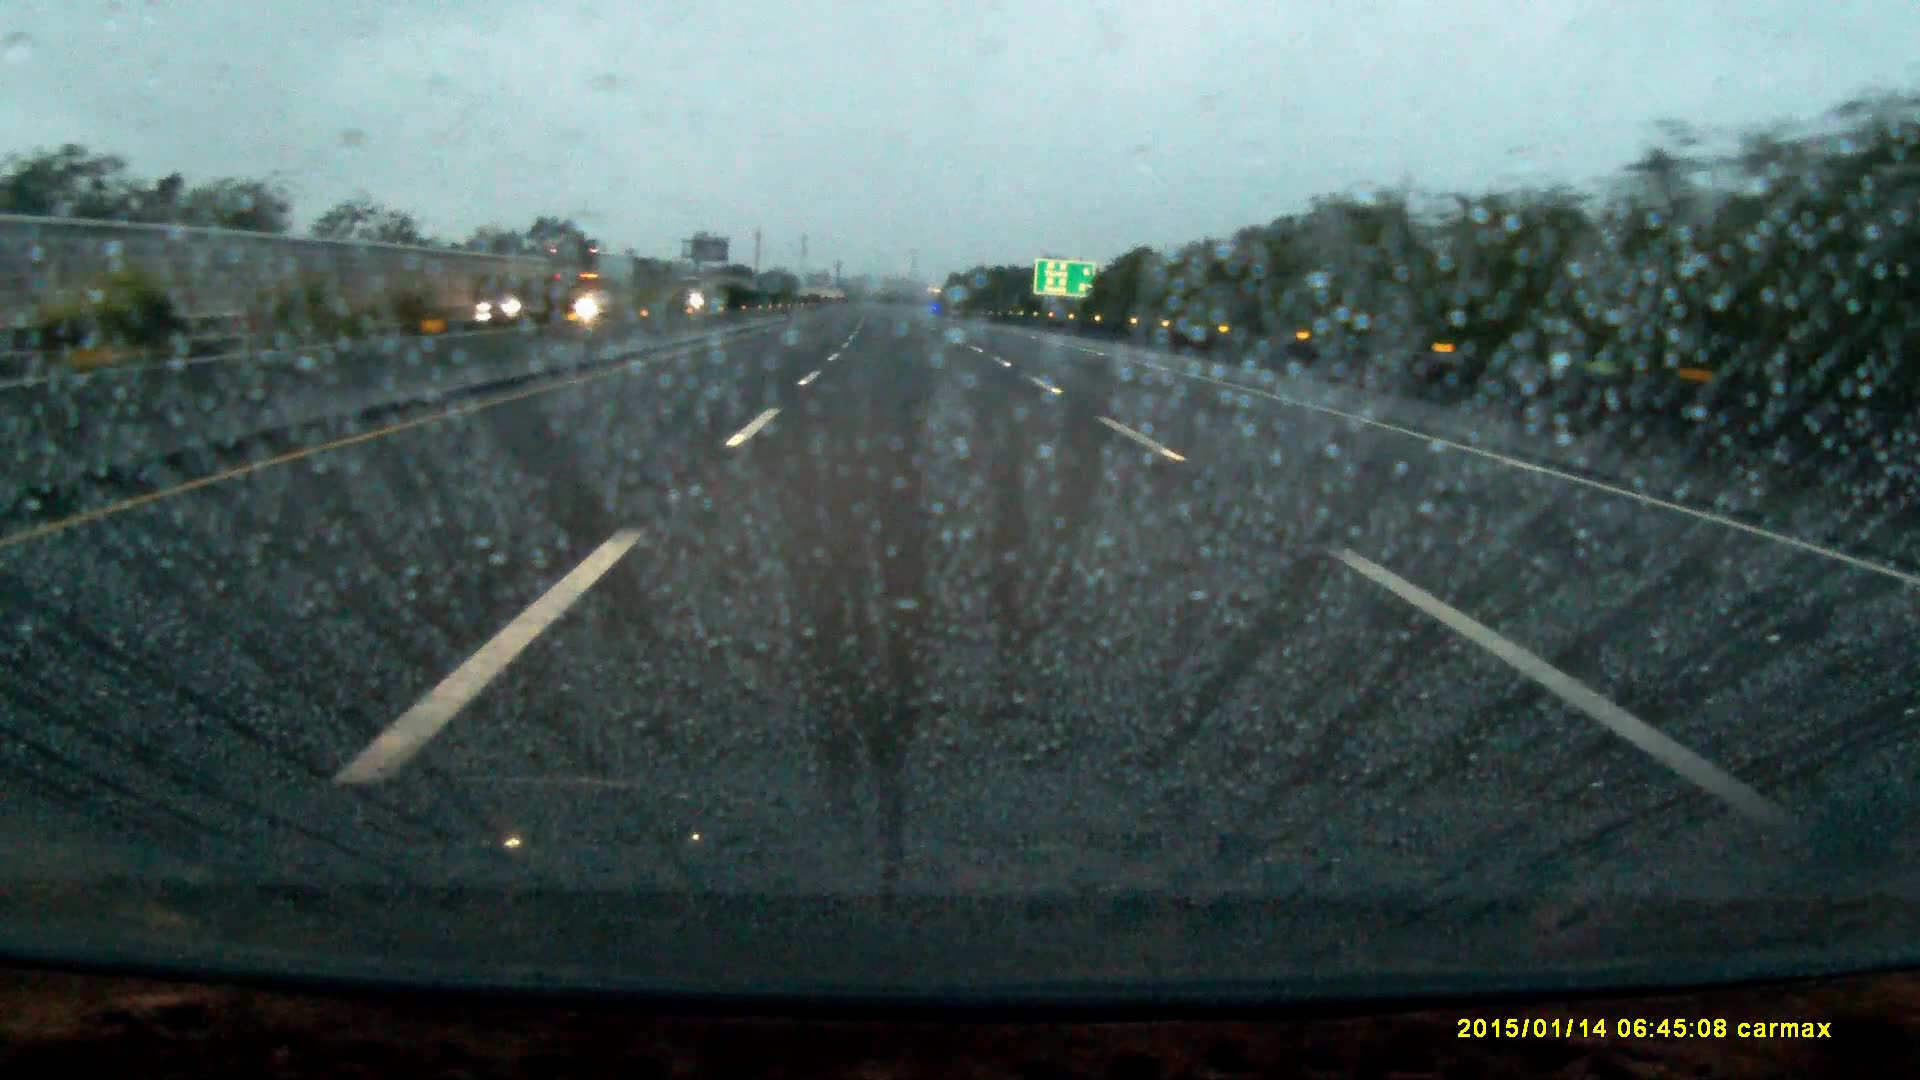vehicle: (551, 247, 638, 318), (471, 285, 543, 324)
